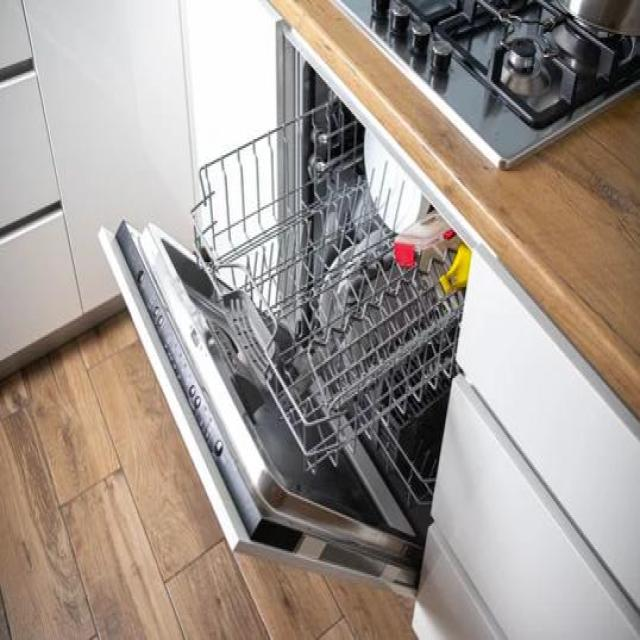dishwasher: (112, 48, 460, 604)
